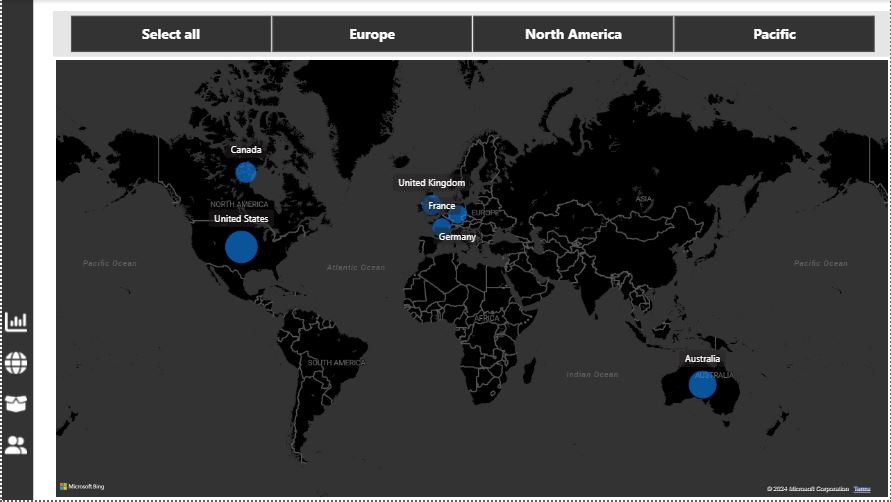

What the dashboard file says about the page in this screenshot:
{"tool":"powerbi","page":{"name":"Map","canvas":[1280,720],"ordinal":1},"visuals":[{"type":"shape","box":[0,0,45,720],"z":0},{"type":"map","fields":{"Category":["Territory Lookup.Country"],"Size":["Measure Table.Total Orders"]},"box":[73.4,82.1,1206.7,637.9],"z":1000},{"type":"slicer","fields":{"Values":["Territory Lookup.Continent"]},"box":[73.4,15.8,1206.7,66.2],"z":2000},{"type":"actionButton","box":[0,443.5,44.6,40.3],"z":2001},{"type":"actionButton","box":[0,502.6,44.6,40.3],"z":2002},{"type":"actionButton","box":[0,561.6,44.6,40.3],"z":2003},{"type":"actionButton","box":[0,620.6,44.6,40.3],"z":2004}]}

Visuals, with their boxes in screenshot pixels (x1, y1, x2, y2):
shape: detection(0, 0, 31, 494)
map - Territory Lookup.Country x Measure Table.Total Orders: detection(50, 56, 879, 494)
slicer - Territory Lookup.Continent: detection(50, 11, 879, 56)
actionButton: detection(0, 304, 31, 332)
actionButton: detection(0, 345, 31, 373)
actionButton: detection(0, 386, 31, 413)
actionButton: detection(0, 426, 31, 454)
